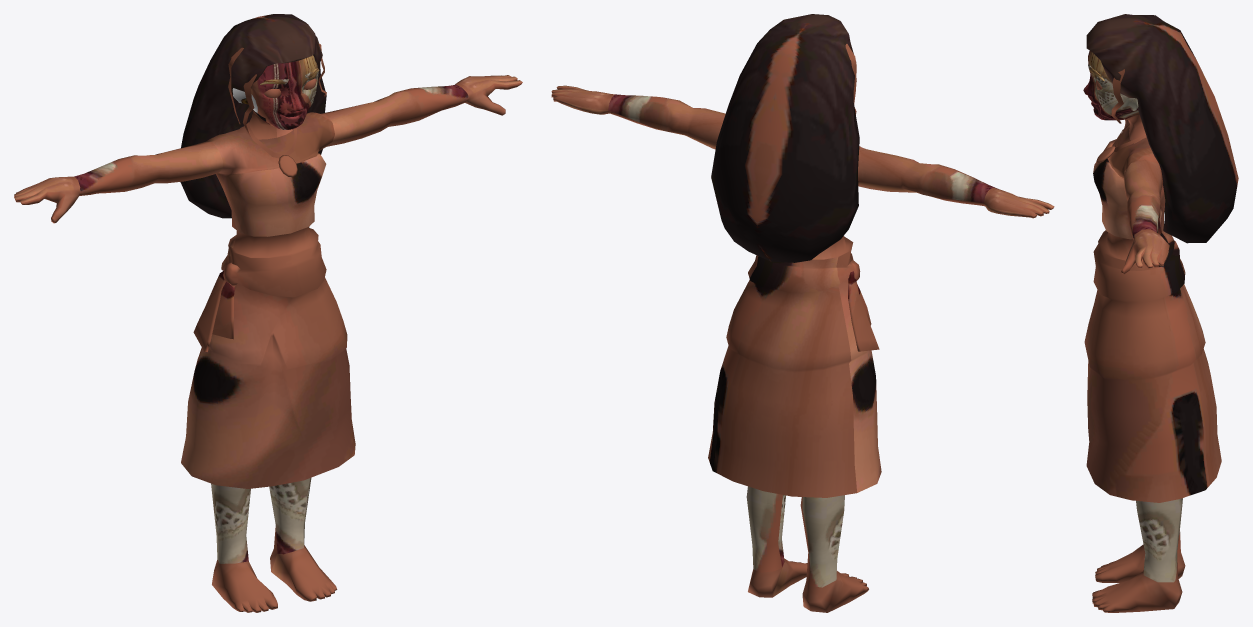
The model's file is Moana_Avatar.fbx.
3 renders of one model, left to right at view 1: azimuth 30°, elevation 25°; view 2: azimuth 150°, elevation 25°; view 3: azimuth 270°, elevation 25°, orthographic.
Visible parts, largest first — view 1: Moana_Avatar; view 2: Moana_Avatar; view 3: Moana_Avatar.
Part boxes in pixels (x1,y1,x2,y2): Moana_Avatar: (14, 14, 522, 612); Moana_Avatar: (551, 14, 1054, 612); Moana_Avatar: (1083, 14, 1238, 612).
Bounding box in the file's own units: 123 × 133 × 33.04.
1 material, 1 textured.
